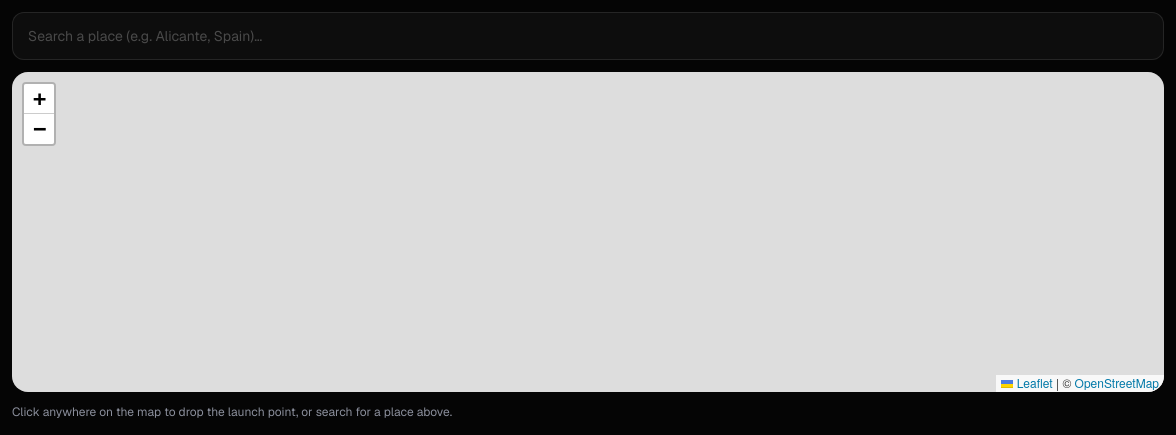
Test case: SitePicker — results list a11y (Web Interface Guidelines) › shows an empty state when a completed search has no hits
Type "Nowhereville" into the search field named "Search launch site" at (588, 36), box [12,12,1164,60]
Wait 400 ms
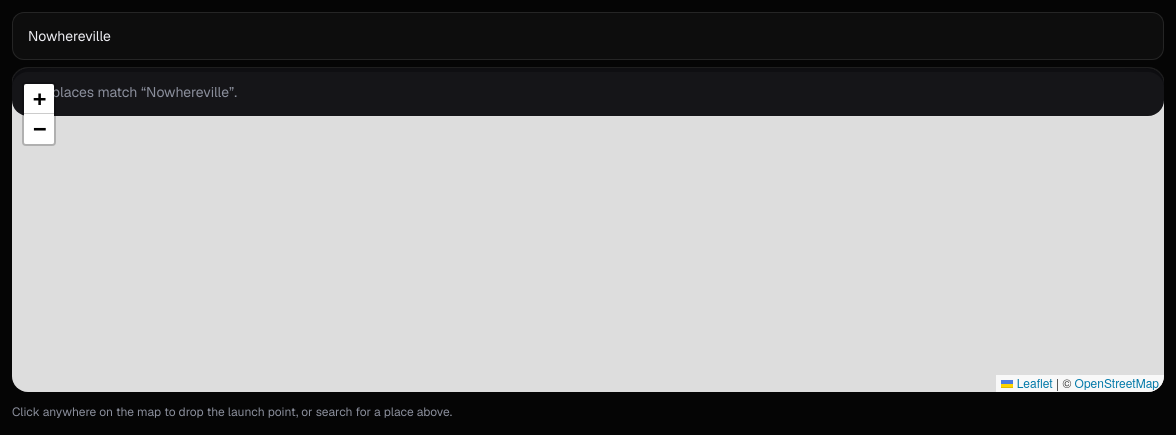
Check: the text "No places match “Nowhereville”." is shown, box [30,83,237,101]
